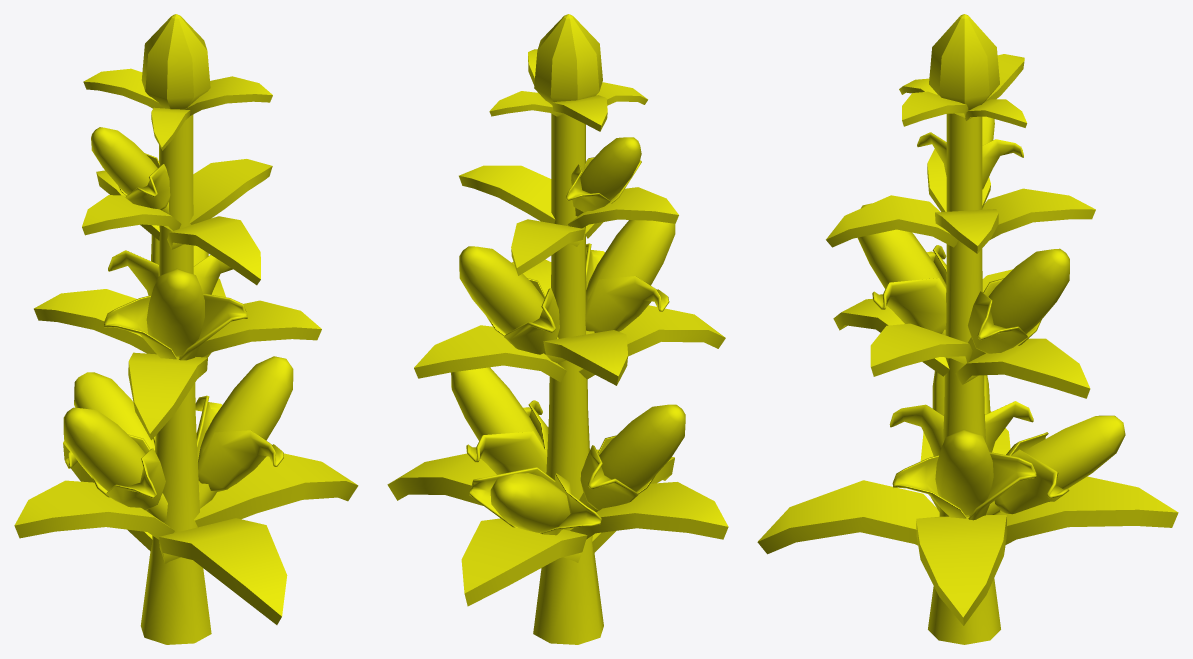
The model's file is 玉米树.glb.
3 views of the same model, side by side, from view 1: azimuth 30°, elevation 25°; view 2: azimuth 150°, elevation 25°; view 3: azimuth 270°, elevation 25° (orthographic).
Visible parts, largest first — view 1: yumizhizhu4; view 2: yumizhizhu4; view 3: yumizhizhu4.
Boxes of the visible parts, left/top/right/bottom form: yumizhizhu4: left=14, top=14, right=358, bottom=644; yumizhizhu4: left=387, top=14, right=728, bottom=644; yumizhizhu4: left=757, top=14, right=1178, bottom=644.
Bounding box in the file's own units: 7.42 × 12.74 × 7.9.
Materials: 1 (1 with a texture image).
